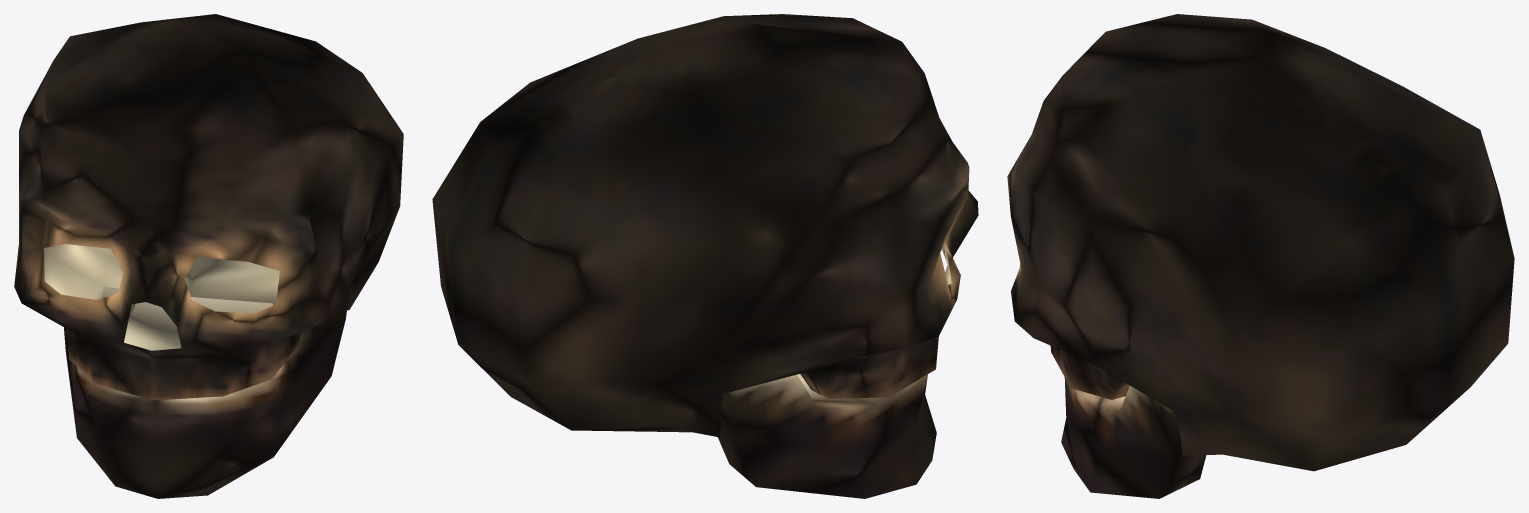
File: ogreboss-shoot-boulder-lod0.glb
3 views of the same model, side by side, from view 1: azimuth 30°, elevation 25°; view 2: azimuth 150°, elevation 25°; view 3: azimuth 270°, elevation 25° (orthographic). The views are drawn at different scales.
Visible parts, largest first — view 1: mesh0; view 2: mesh0; view 3: mesh0.
Boxes of the visible parts, x1,y1,x2,y2 form: mesh0: [14, 14, 403, 498]; mesh0: [432, 14, 978, 498]; mesh0: [1007, 14, 1514, 498].
Size of the model in its own units: 4.69 by 4.58 by 4.68.
Materials: 1 (1 with a texture image).
